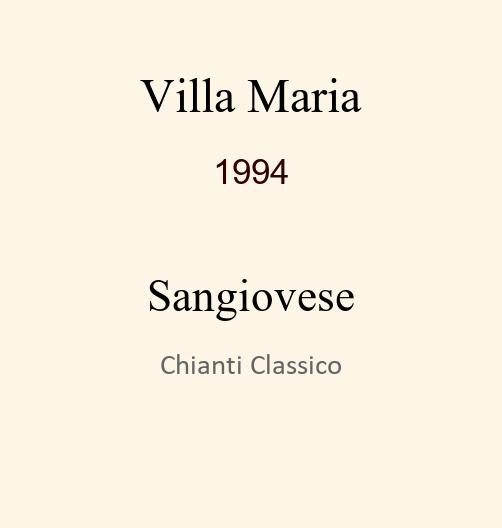brand: (140, 69, 362, 103)
region: (160, 352, 342, 372)
variety: (147, 270, 355, 312)
vintage: (213, 152, 289, 177)
